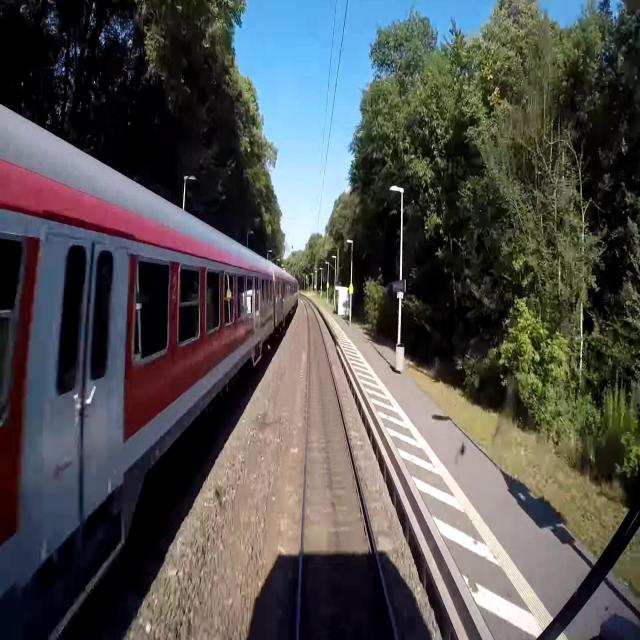rail-track: (301, 302, 390, 639)
